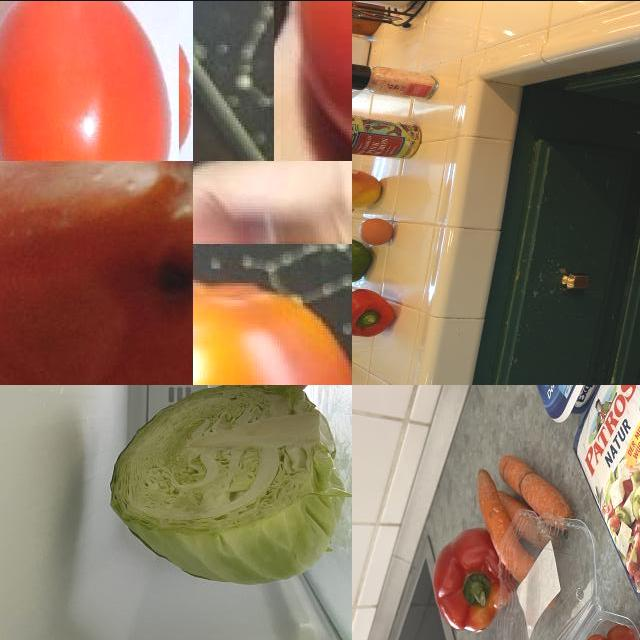bell_pepper: (425, 532, 515, 634), (353, 285, 399, 339), (353, 236, 371, 285)
cabbage: (110, 385, 348, 585)
carrot: (464, 444, 566, 568)
egg: (360, 216, 402, 246)
tomato: (1, 1, 194, 161), (194, 241, 353, 385)
